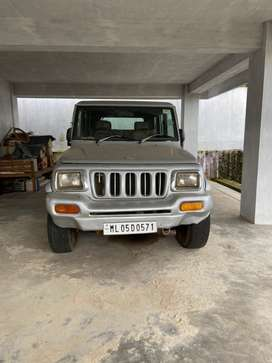ML05D0571: (103, 221, 158, 234)
